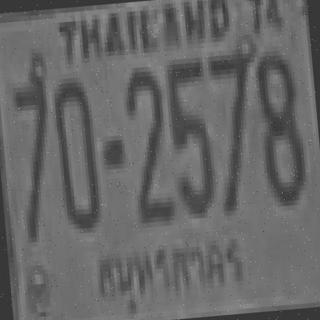N00: (51, 77, 100, 230)
N02: (123, 63, 172, 221)
N05: (164, 57, 215, 215)
N07: (206, 48, 260, 212), (8, 66, 58, 238)
N08: (253, 44, 305, 202)
P58: (85, 228, 252, 318)
